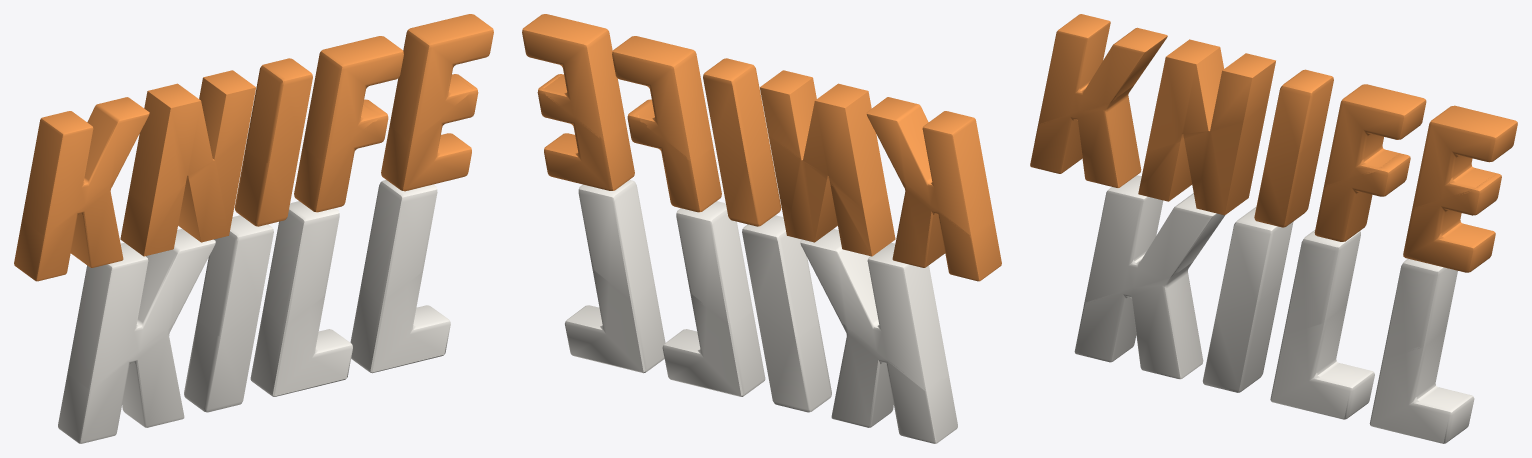
File: title-knife.glb
The picture shows the model from 3 angles, left to right: view 1: azimuth 30°, elevation 25°; view 2: azimuth 150°, elevation 25°; view 3: azimuth 330°, elevation 25°; orthographic projection.
Parts seen in each view (by area): view 1: b_0_q, a_1_q, a_0_q, b_0_p, a_4_q, a_3_q, a_1_p, b_2_p, b_3_p, b_2_q, b_3_q, b_1_q (+6 smaller); view 2: b_0_q, a_1_q, a_0_q, b_0_p, a_4_q, a_3_q, a_1_p, b_3_p, b_2_p, b_2_q, b_3_q, b_1_q (+6 smaller); view 3: b_0_q, b_0_p, a_1_q, a_0_q, a_1_p, b_3_p, b_2_p, a_0_p, a_4_q, a_3_q, a_4_p, b_2_q (+6 smaller).
Boxes of the visible parts, x1,y1,x2,y2 form: b_0_q: (67,229,215,389); a_1_q: (128,70,255,210); a_0_q: (21,97,149,236); b_0_p: (58,324,184,443); a_4_q: (389,14,493,140); a_3_q: (303,36,403,161); a_1_p: (120,133,247,256); b_2_p: (250,294,352,396); b_3_p: (350,270,450,373); b_2_q: (263,201,339,325); b_3_q: (361,180,437,302); b_1_q: (197,215,273,337); b_0_q: (800,229,948,391); a_1_q: (760,70,887,210); a_0_q: (866,97,993,237); b_0_p: (831,321,957,443); a_4_q: (522,14,625,140); a_3_q: (612,36,712,161); a_1_p: (768,135,895,256); b_3_p: (565,268,665,373); b_2_p: (662,292,765,396); b_2_q: (676,201,752,325); b_3_q: (578,180,654,301); b_1_q: (742,215,818,337); b_0_q: (1084,175,1224,303); b_0_p: (1074,262,1203,379); a_1_q: (1147,39,1275,150); a_0_q: (1038,14,1167,125); a_1_p: (1138,103,1267,215); b_3_p: (1369,329,1474,443); b_2_p: (1270,305,1374,419); a_0_p: (1030,85,1141,187); a_4_q: (1412,105,1517,209); a_3_q: (1324,84,1426,187); a_4_p: (1403,174,1501,272); b_2_q: (1283,230,1360,335).
Size of the model in its own units: 3.38 by 2.22 by 0.3.
